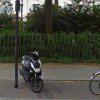Bicycle: (89, 68, 100, 98)
